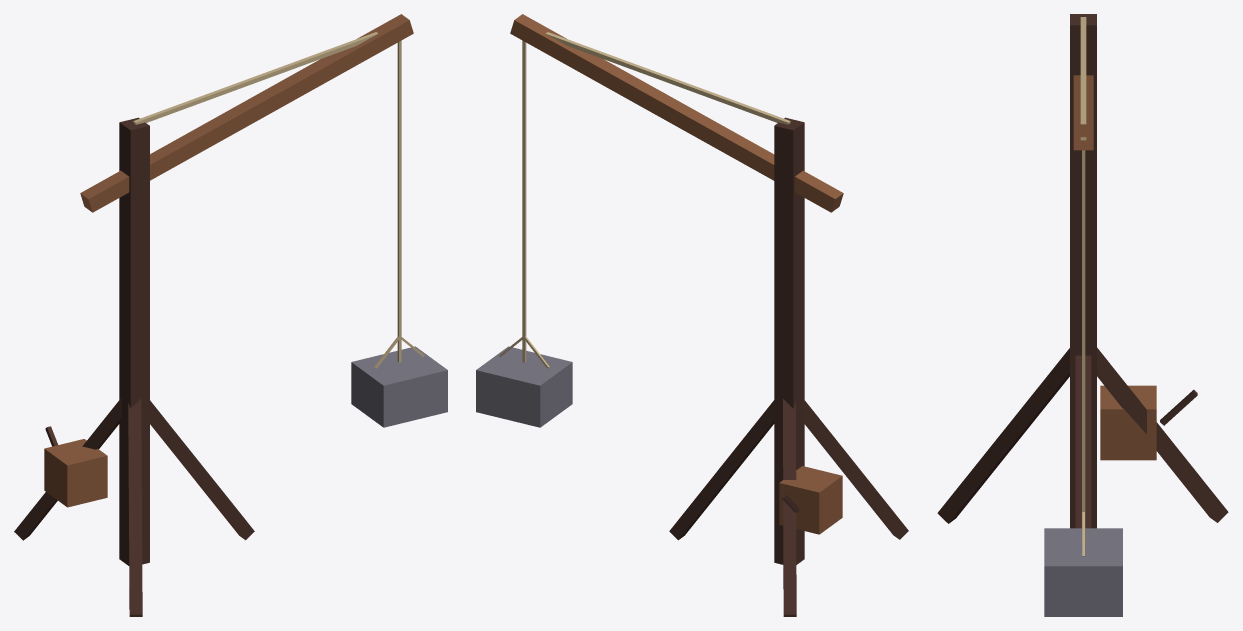
The model's file is quarry_crane.glb.
3 renders of one model, left to right at view 1: azimuth 30°, elevation 25°; view 2: azimuth 150°, elevation 25°; view 3: azimuth 270°, elevation 25°, orthographic. The views are drawn at different scales.
Visible parts, largest first — view 1: mast; view 2: mast; view 3: mast.
Boxes of the visible parts, x1,y1,x2,y2 form: mast: (14,14,447,616); mast: (476,14,908,616); mast: (937,14,1228,616).
Size of the model in its own units: 4.5 by 5.73 by 2.6.
